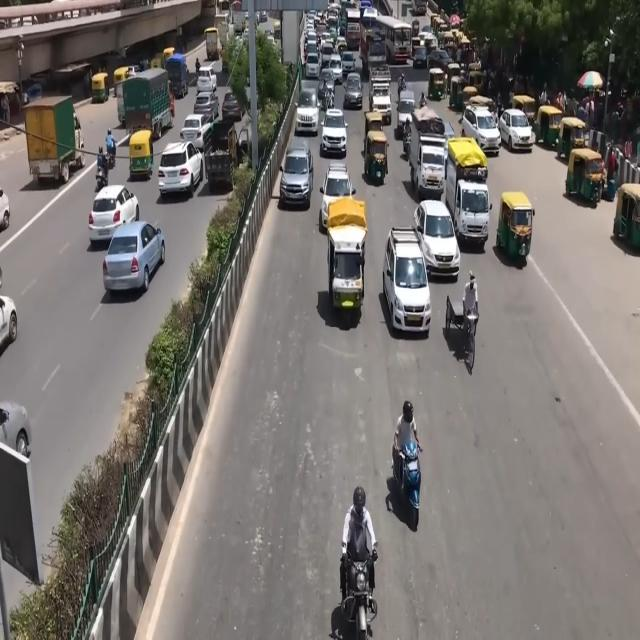auto: (382, 225, 430, 332), (494, 190, 534, 264), (564, 145, 606, 205), (613, 183, 640, 253), (557, 115, 587, 162), (364, 128, 388, 186), (128, 129, 154, 179), (535, 104, 563, 150), (511, 94, 537, 128), (364, 110, 384, 154), (427, 67, 447, 103), (449, 74, 466, 110), (91, 73, 109, 104), (461, 85, 479, 114), (467, 63, 484, 93), (114, 66, 131, 95)
bike-auto: (386, 390, 426, 529), (341, 487, 377, 640), (341, 488, 378, 604), (97, 137, 116, 188), (462, 272, 478, 332), (318, 82, 334, 112), (105, 128, 116, 166), (402, 117, 412, 156)
